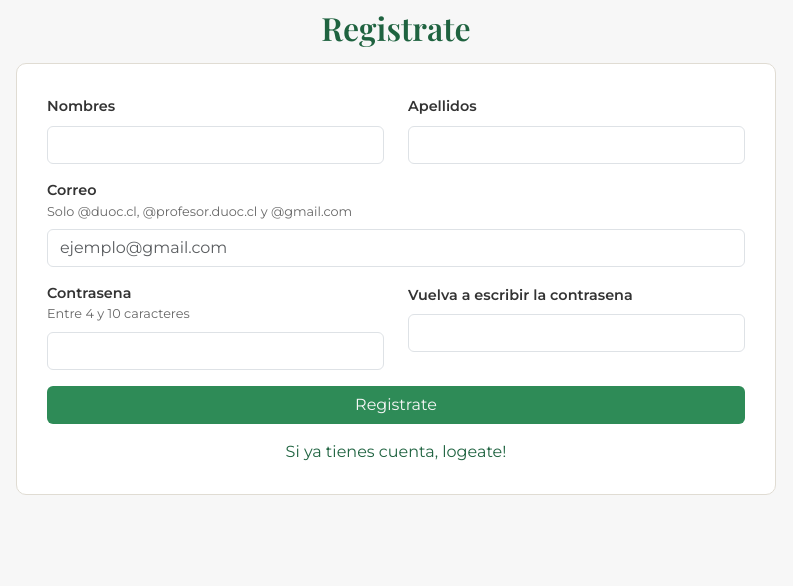
Vista Registro › no permite registrar un correo que ya existe
Type "Ana" into the field labelled "Nombres".
click(216, 145); type("Ana")  # box [47,126,384,164]
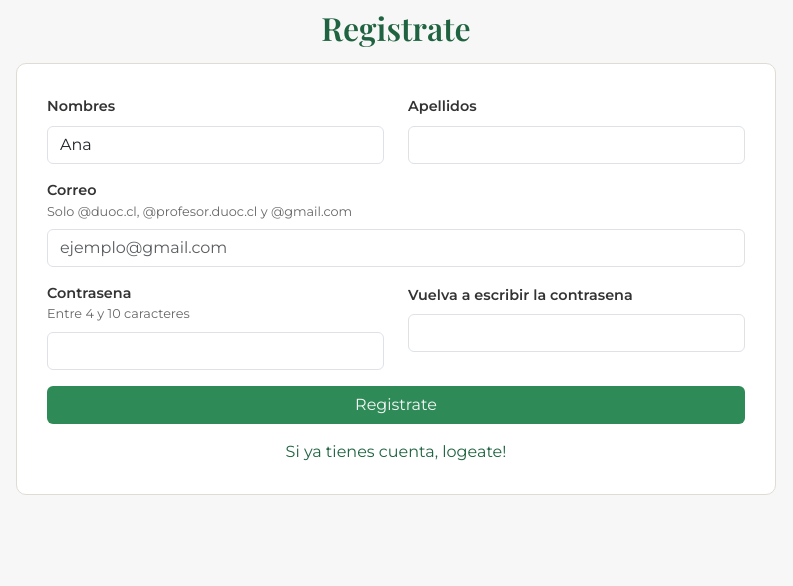
Type "Perez Soto" into the field labelled "Apellidos".
click(576, 145); type("Perez Soto")  # box [408,126,745,164]
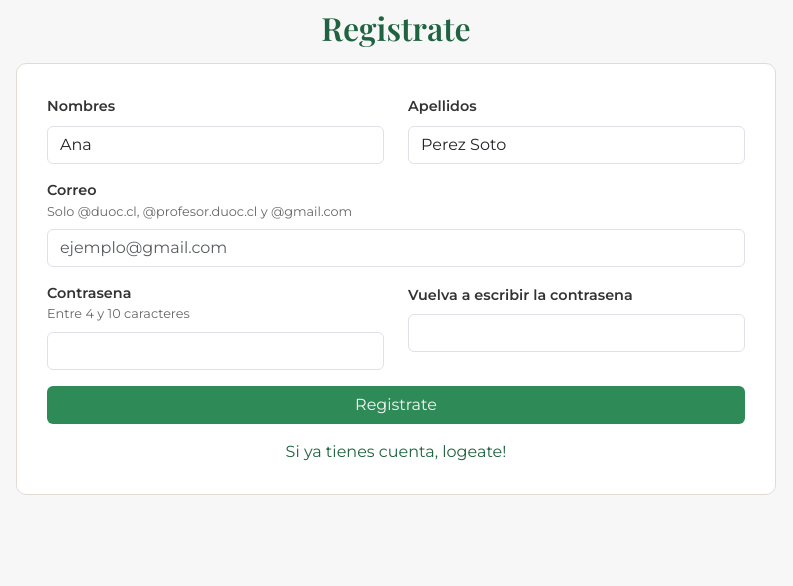
Type "admin@duoc.cl" into the field labelled "Correo Solo @duoc.cl, @profesor.duoc.cl y @gmail.com".
click(396, 248); type("admin@duoc.cl")  # box [47,229,745,267]
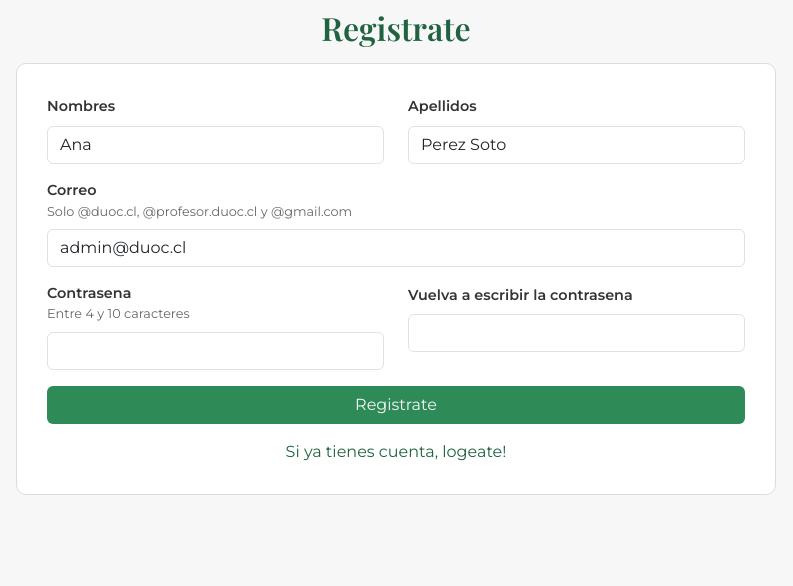
Type "clave1" into the password field labelled "Contrasena Entre 4 y 10 caracteres".
click(216, 351); type("clave1")  # box [47,332,384,370]
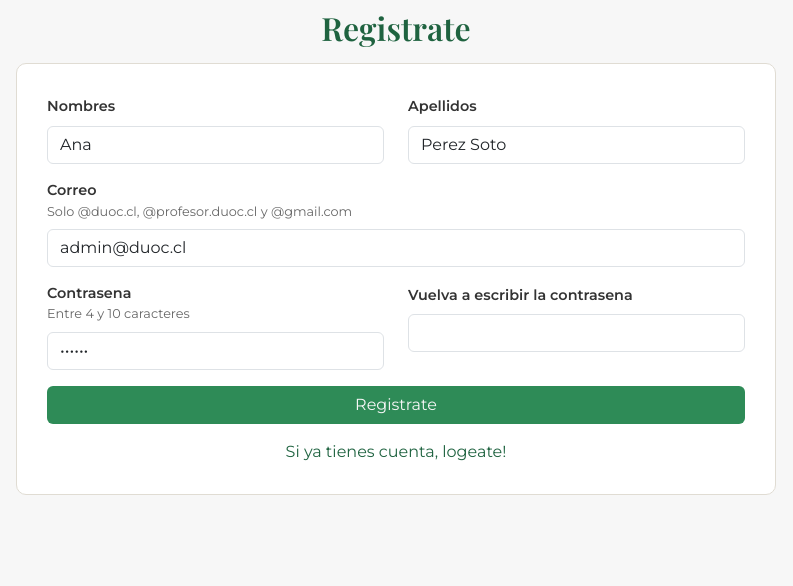
Type "clave1" into the password field labelled "Vuelva a escribir la contrasena".
click(576, 333); type("clave1")  # box [408,314,745,352]
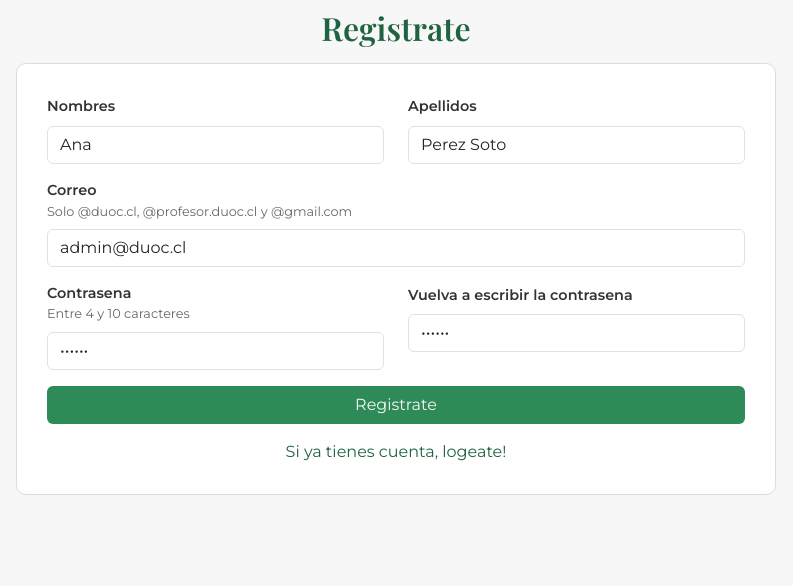
Click the button "Registrate".
click(396, 405)  # box [47,386,745,424]
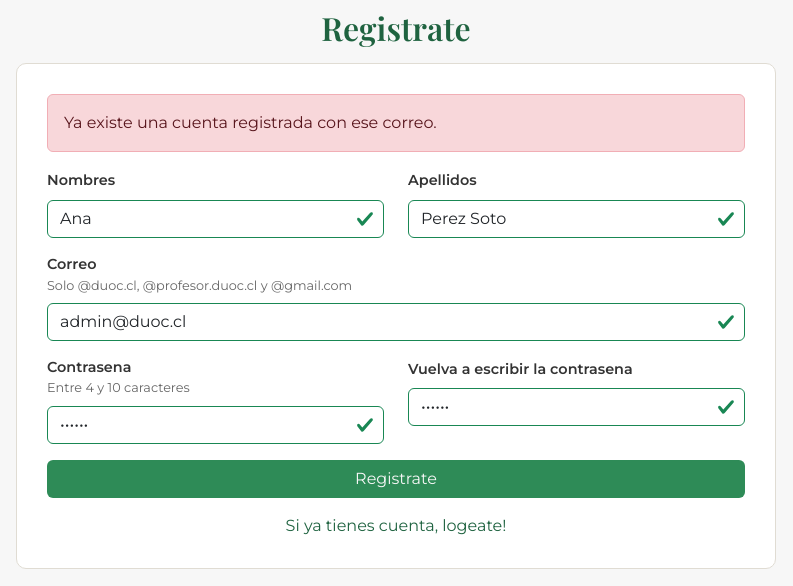
Expected: the text "Ya existe una cuenta registrada con ese correo." is shown, [47,94,745,152]
